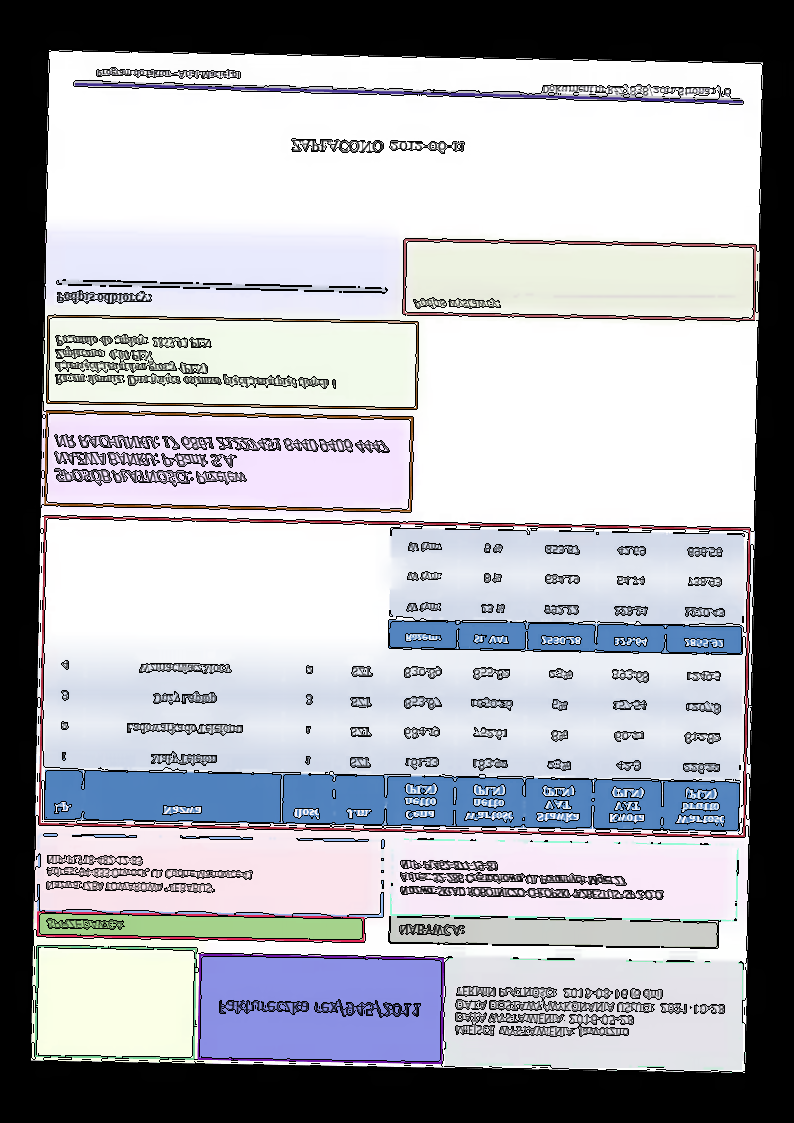Table: (42, 645, 743, 833), (387, 526, 746, 656)
TextBox: (53, 430, 390, 490), (52, 333, 339, 392), (453, 982, 727, 1042), (397, 857, 665, 902), (43, 853, 255, 897), (214, 994, 422, 1021), (540, 79, 733, 101), (287, 136, 466, 156), (94, 67, 242, 82), (54, 289, 154, 307), (411, 295, 501, 313), (43, 916, 127, 933), (397, 921, 465, 939)
